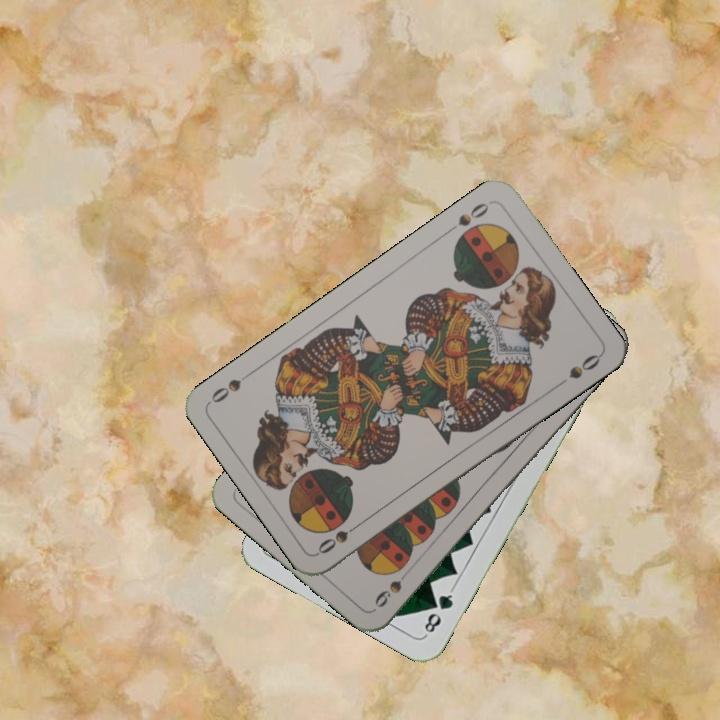G8: (420, 584, 456, 638)
S9: (370, 562, 415, 610)
SO: (313, 517, 366, 557), (442, 198, 492, 236)
